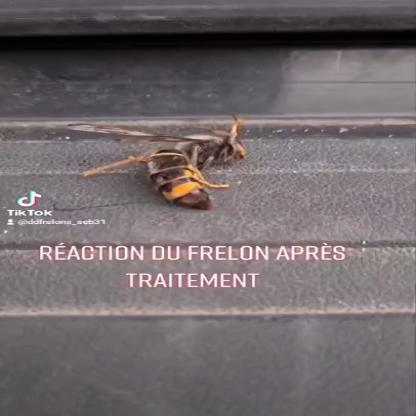hornet: (75, 102, 288, 213)
